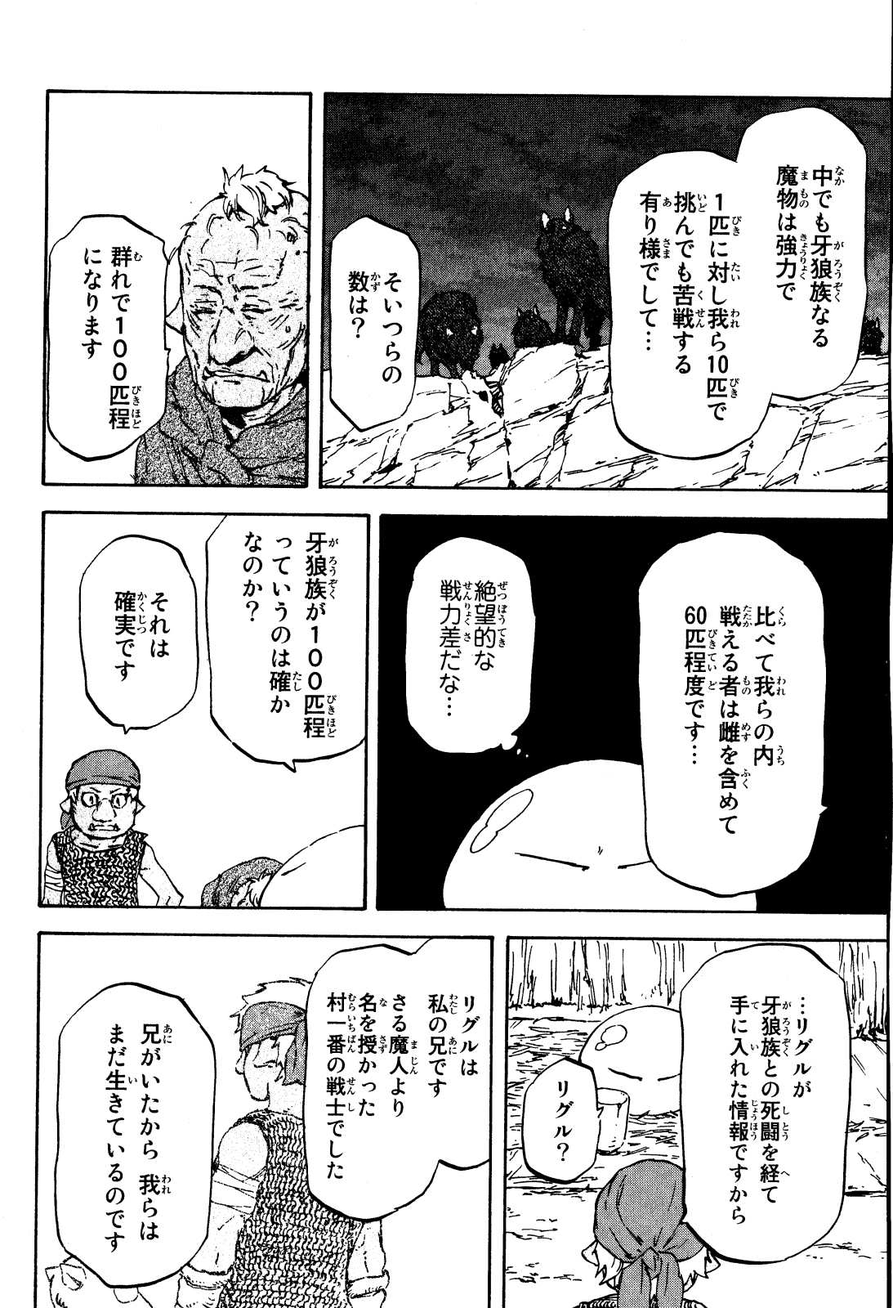bubbles: (603, 105, 872, 459), (632, 527, 837, 893), (673, 941, 860, 1269), (301, 934, 489, 1228), (53, 974, 219, 1293), (206, 513, 368, 784), (45, 211, 173, 464), (400, 534, 534, 764), (77, 529, 203, 745), (324, 206, 422, 438), (520, 1052, 607, 1190)
